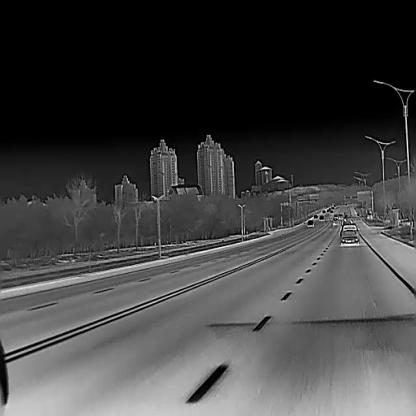car: (339, 222, 359, 244), (332, 217, 338, 224), (307, 219, 313, 225)
